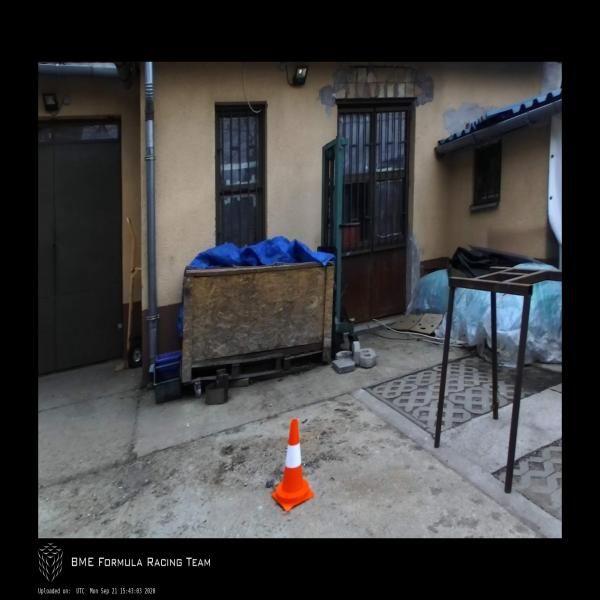orange_cone: (271, 419, 314, 512)
